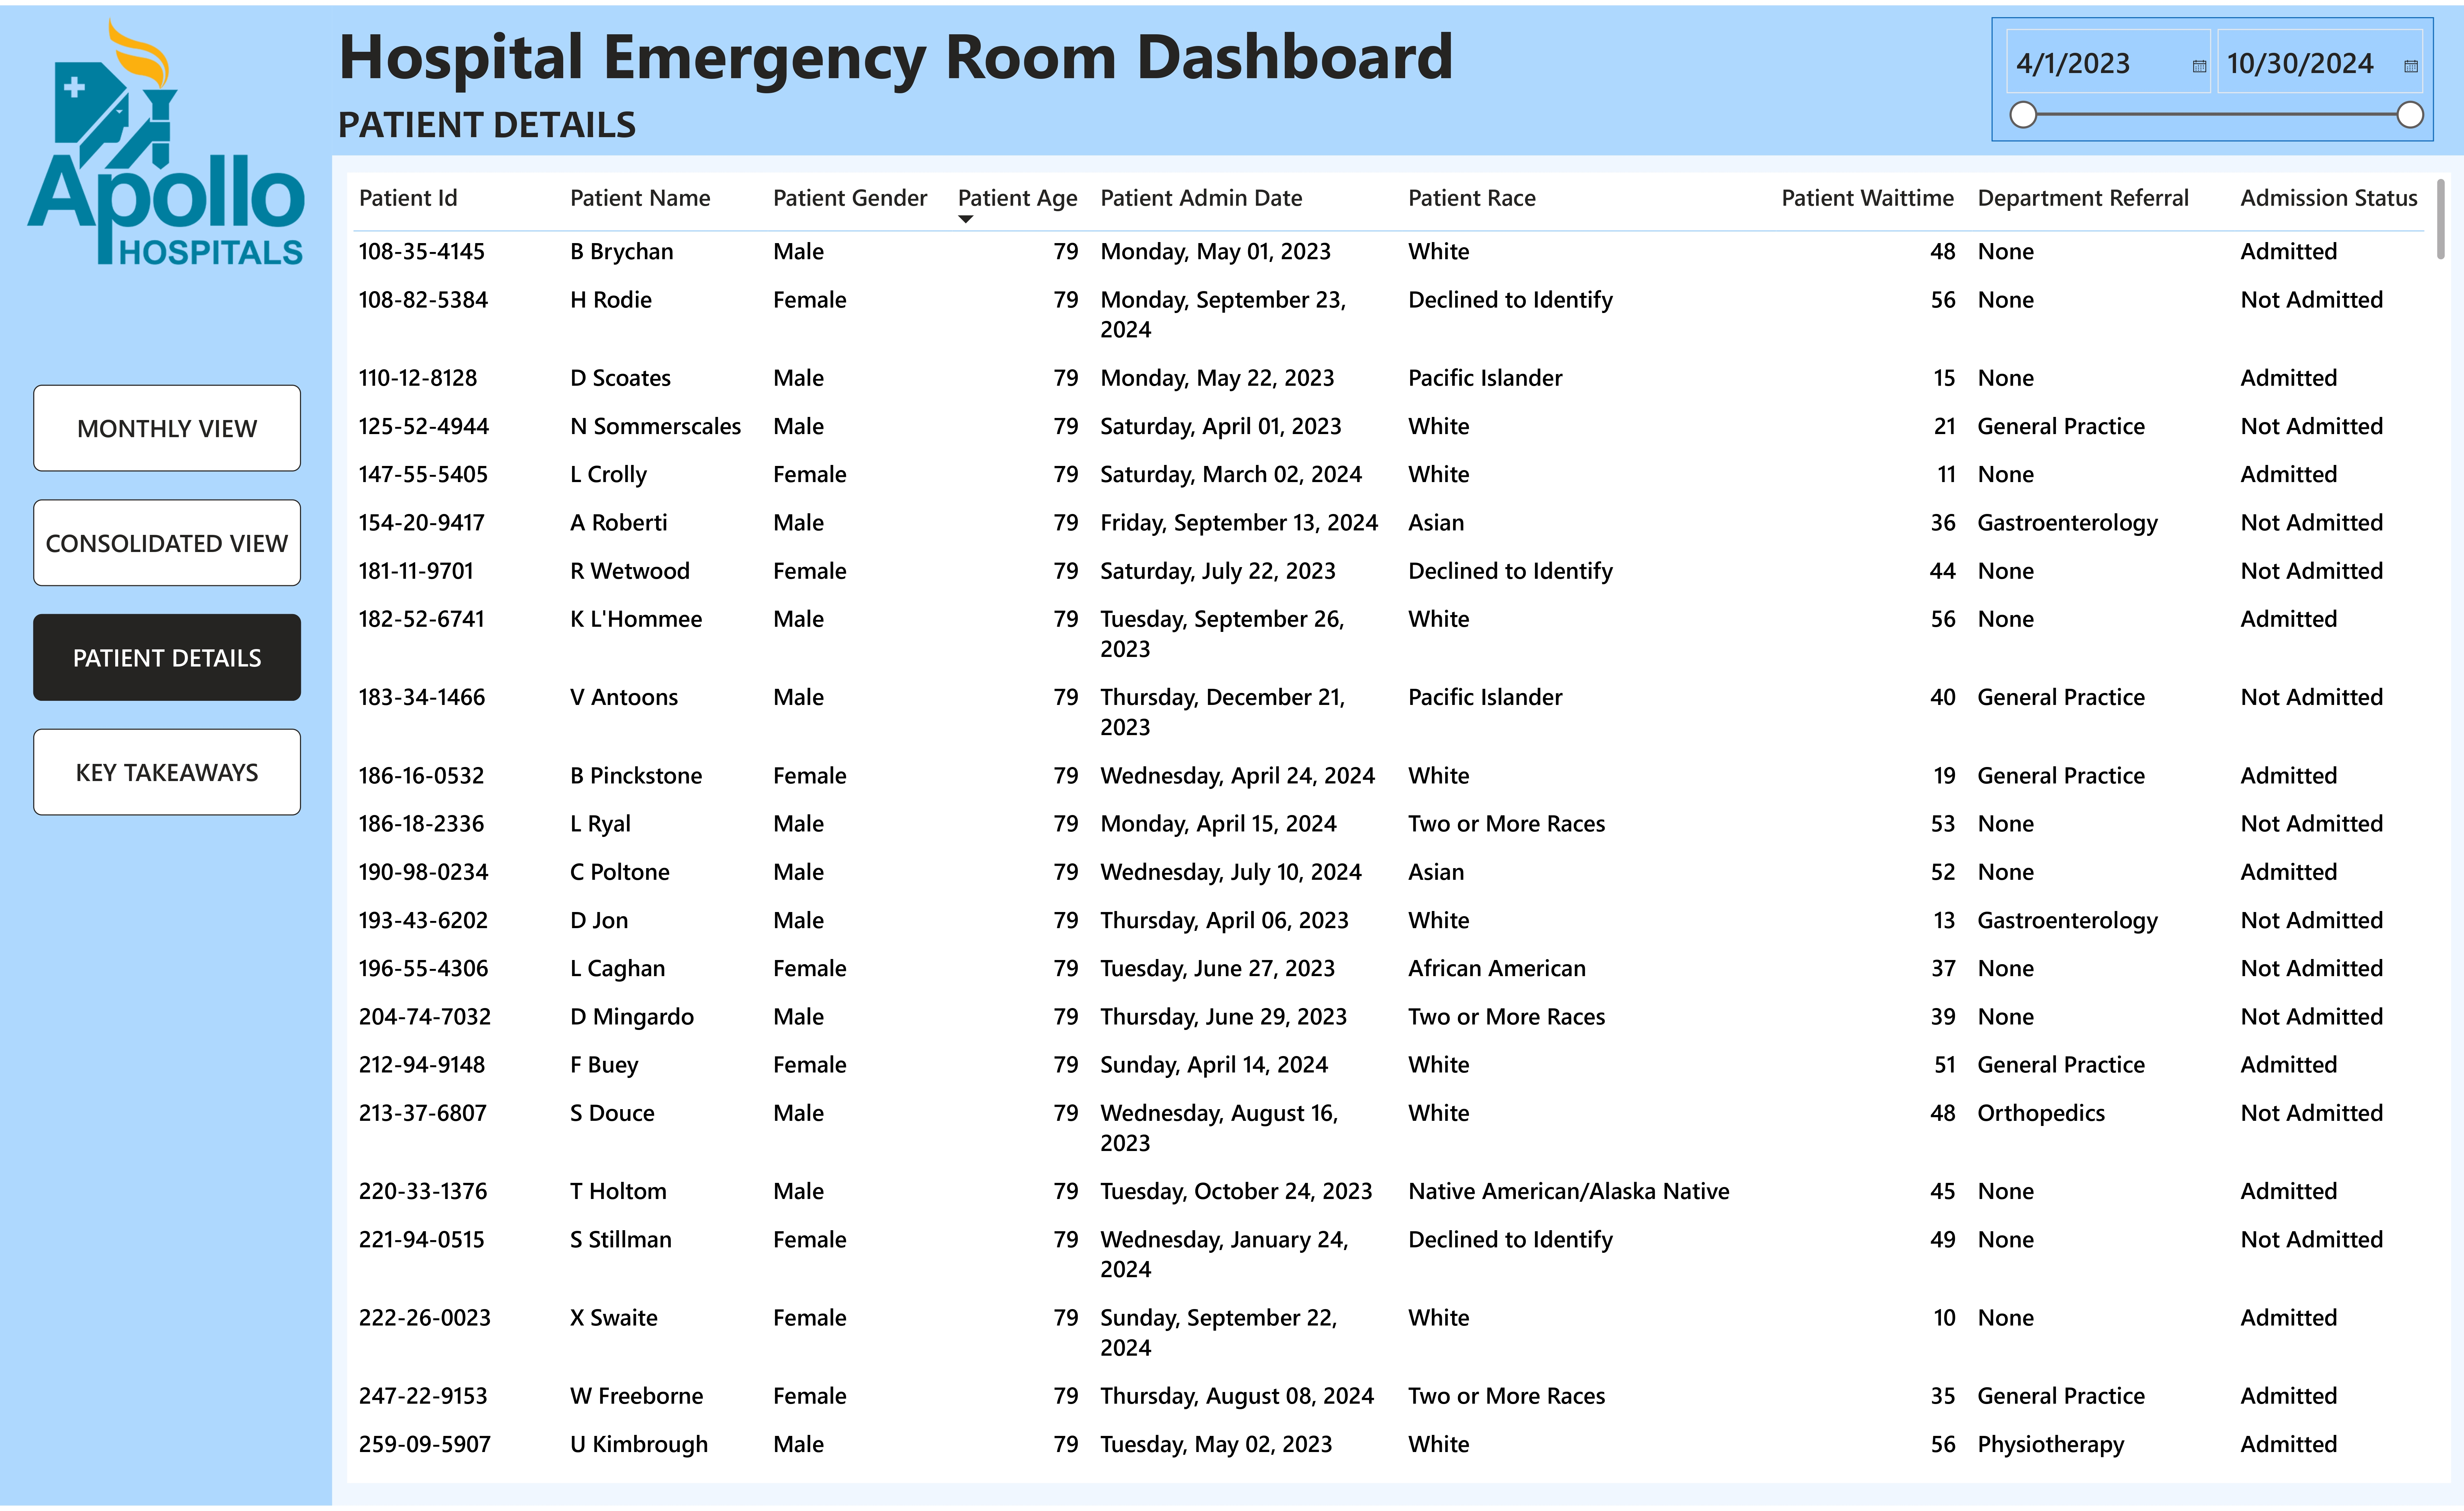

This screenshot's page, from the dashboard's own definition file:
{"tool":"powerbi","page":{"name":"PATIENT DETAILS","canvas":[2300,1400],"ordinal":2},"visuals":[{"type":"shape","box":[0,0,310,1400],"z":0},{"type":"shape","box":[310,0,1990,140],"z":1000},{"type":"textbox","box":[310,0,1065,112.5],"z":2000},{"type":"textbox","box":[310,82,380,58],"z":3000},{"type":"slicer","fields":{"Values":["Date Table.Date"]},"box":[1858.6,11.4,412.9,115.7],"z":4000},{"type":"image","box":[0,0,310,256],"z":5000},{"type":"tableEx","fields":{"Values":["Hospital ER_Data.Patient Id","Hospital ER_Data.Patient Full Name","Hospital ER_Data.Patient Gender","Sum(Hospital ER_Data.Patient Age)","Hospital ER_Data.Patient Admin Date","Hospital ER_Data.Patient Race","Sum(Hospital ER_Data.Patient Waittime)","Hospital ER_Data.Department Referral","Hospital ER_Data.Admission Status"]},"box":[324.3,155.7,1964.3,1222.9],"z":6000},{"type":"pageNavigator","box":[30.8,354,250.6,402.3],"z":6001}]}

Visuals, with their boxes in screenshot pixels (x1, y1, x2, y2), scaled from the page's 2300x1400 canvas onto the 2464x1511 screenshot:
shape: 0, 0, 332, 1511
shape: 332, 0, 2464, 151
textbox: 332, 0, 1473, 121
textbox: 332, 88, 739, 151
slicer - Date Table.Date: 1991, 12, 2433, 137
image: 0, 0, 332, 276
tableEx - Hospital ER_Data.Patient Id x Hospital ER_Data.Patient Full Name: 348, 168, 2452, 1488
pageNavigator: 33, 382, 301, 816
